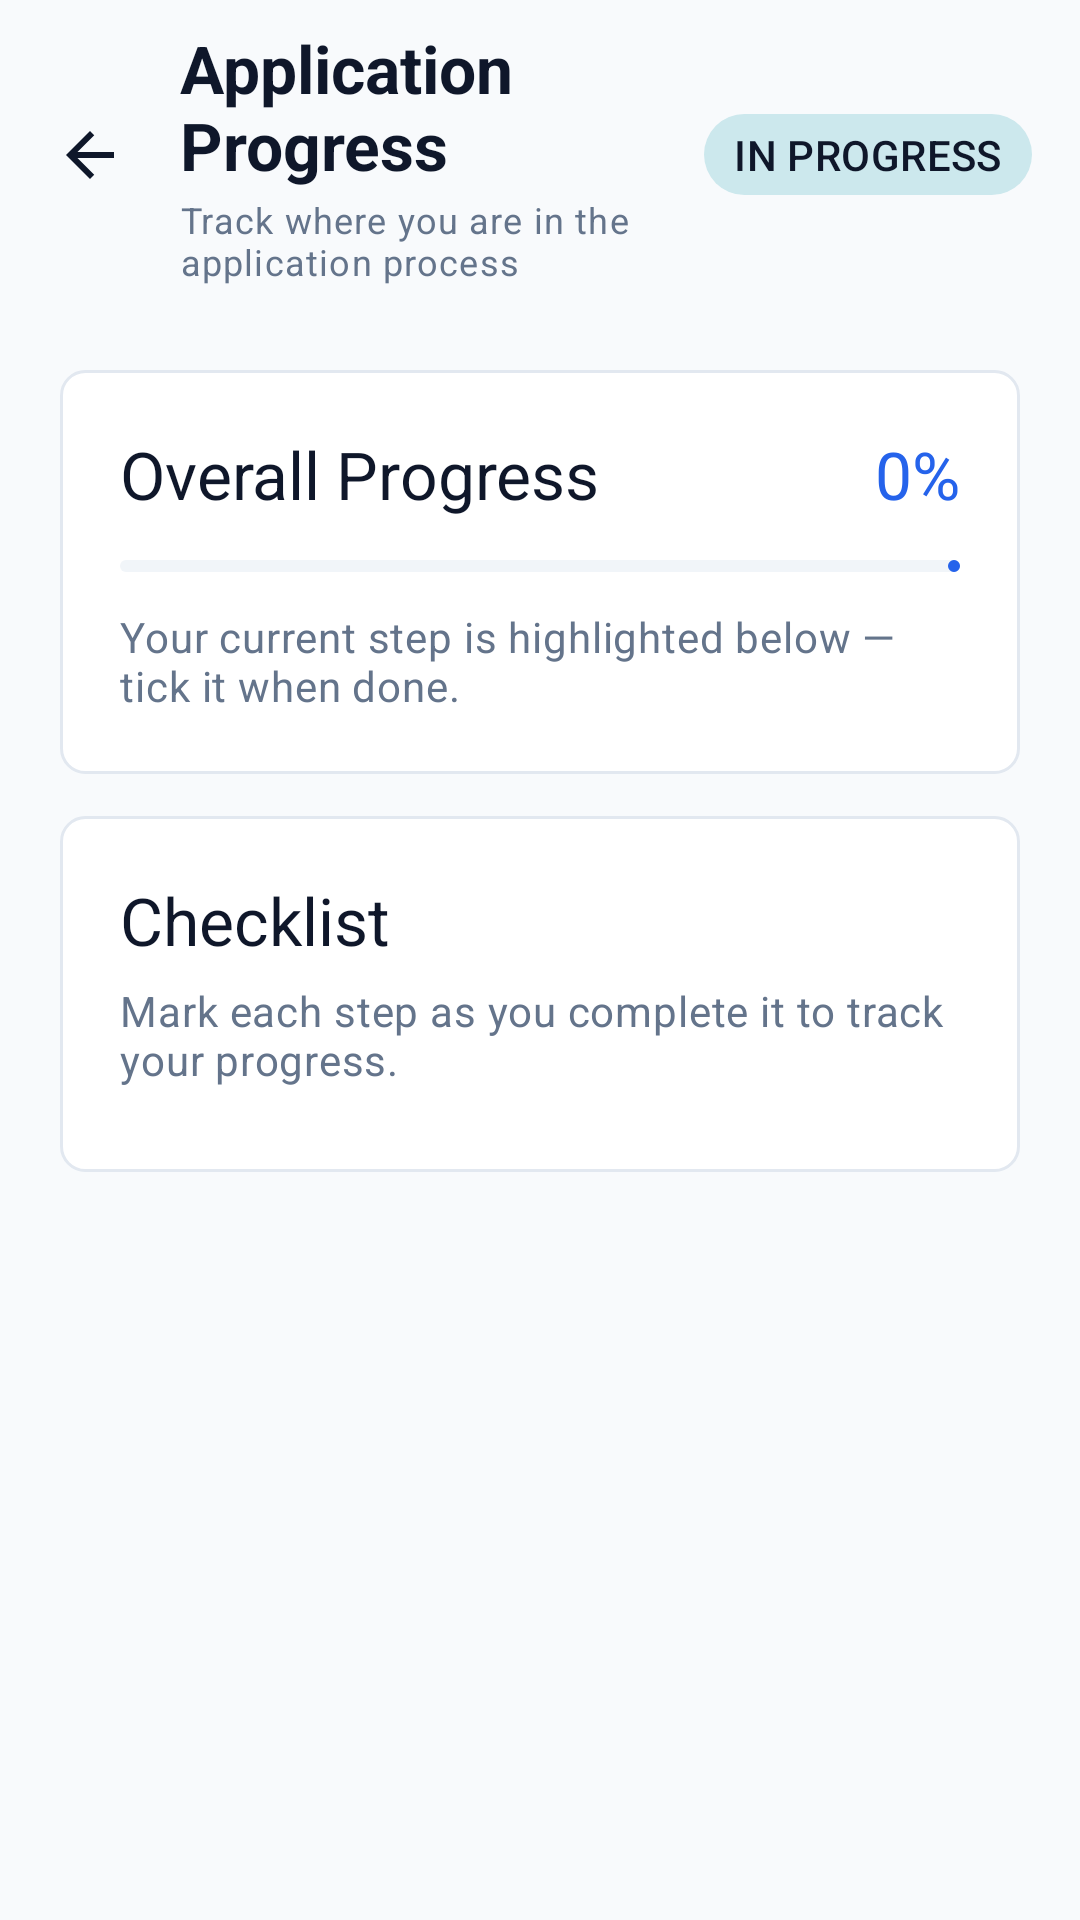

Icons on this 1080x1920 Android screen, each with the point to tap as [x,y]:
Back: [90,155]
